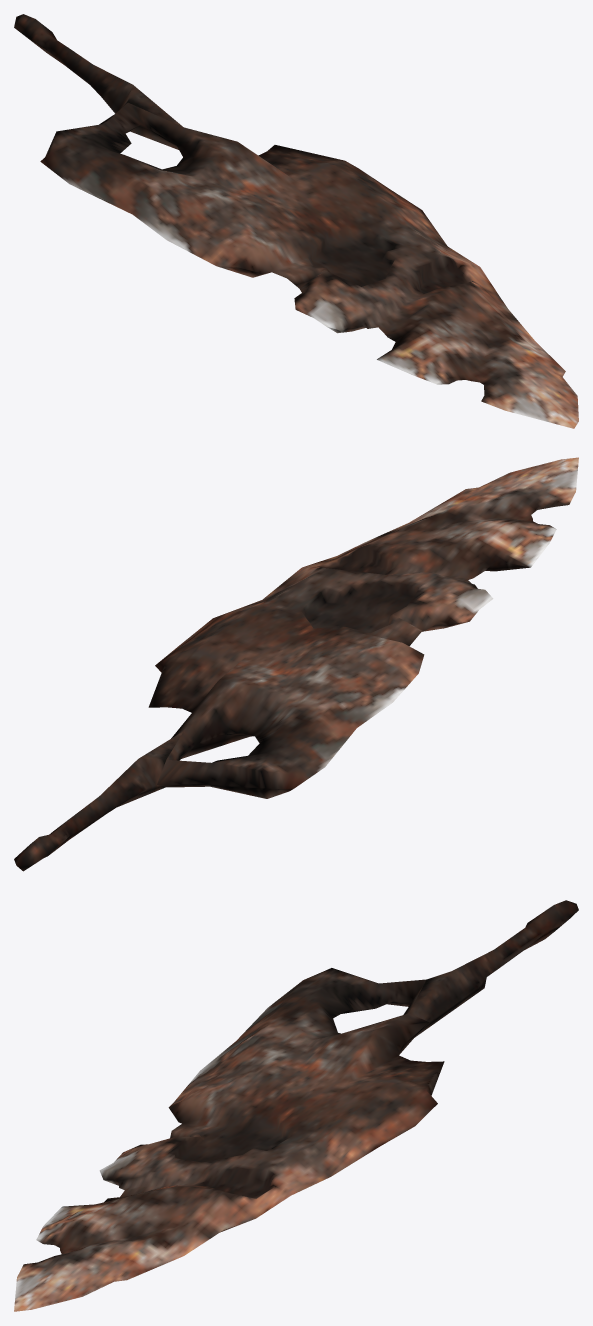
The model's file is we025_amh.OBJ.
3 renders of one model, top to bottom at view 1: azimuth 30°, elevation 25°; view 2: azimuth 150°, elevation 25°; view 3: azimuth 330°, elevation 25°, orthographic.
Visible parts, largest first — view 1: mesh_0; view 2: mesh_0; view 3: mesh_0.
Boxes of the visible parts, x1,y1,x2,y2 form: mesh_0: (14, 14, 578, 428); mesh_0: (14, 457, 578, 871); mesh_0: (14, 900, 578, 1311).
Bounding box in the file's own units: 75.55 × 16.19 × 314.
Materials: 1 (1 with a texture image).
